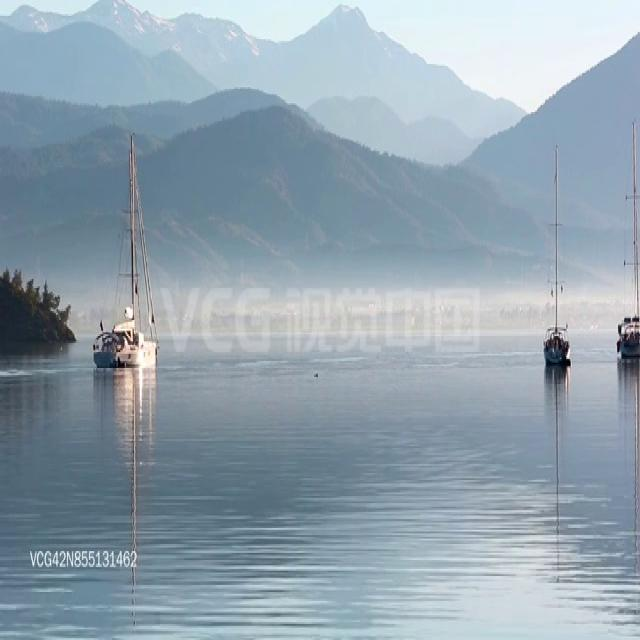sailboat: (95, 125, 161, 372), (541, 130, 575, 370), (616, 113, 640, 362)
